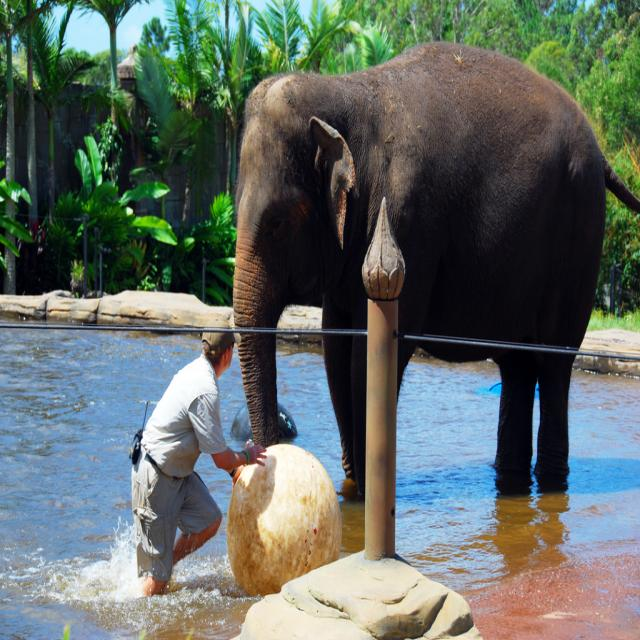elephant: (225, 39, 601, 522)
